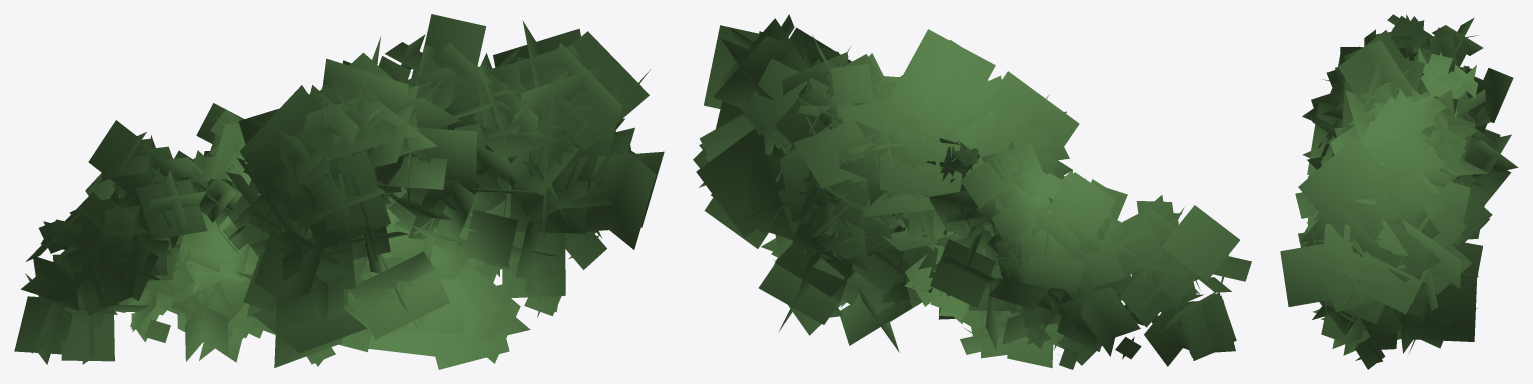
File: Canopy.fbx
3 views of the same model, side by side, from view 1: azimuth 30°, elevation 25°; view 2: azimuth 150°, elevation 25°; view 3: azimuth 270°, elevation 25° (orthographic). The views are drawn at different scales.
Parts seen in each view (by area): view 1: Leaves 1, Leaves 6, Leaves 2, Leaves 5, Leaves 3, Leaves 4; view 2: Leaves 2, Leaves 1, Leaves 6, Leaves 5, Leaves 4, Leaves 3; view 3: Leaves 1, Leaves 6, Leaves 2, Leaves 5, Leaves 4, Leaves 3.
Boxes of the visible parts, x1,y1,x2,y2 form: Leaves 1: (243,47,664,369); Leaves 6: (226,14,650,293); Leaves 2: (14,103,275,364); Leaves 5: (63,135,258,328); Leaves 3: (233,45,601,276); Leaves 4: (236,73,614,328); Leaves 2: (882,141,1251,369); Leaves 1: (693,53,1033,352); Leaves 6: (700,14,1079,294); Leaves 5: (895,137,1203,336); Leaves 4: (761,58,1005,324); Leaves 3: (772,27,1064,276); Leaves 1: (1280,57,1492,369); Leaves 6: (1298,29,1483,282); Leaves 2: (1366,14,1517,241); Leaves 5: (1389,16,1497,189); Leaves 4: (1298,88,1466,325); Leaves 3: (1313,46,1475,223).
Bounding box in the file's own units: 4645 × 2532 × 1920.
